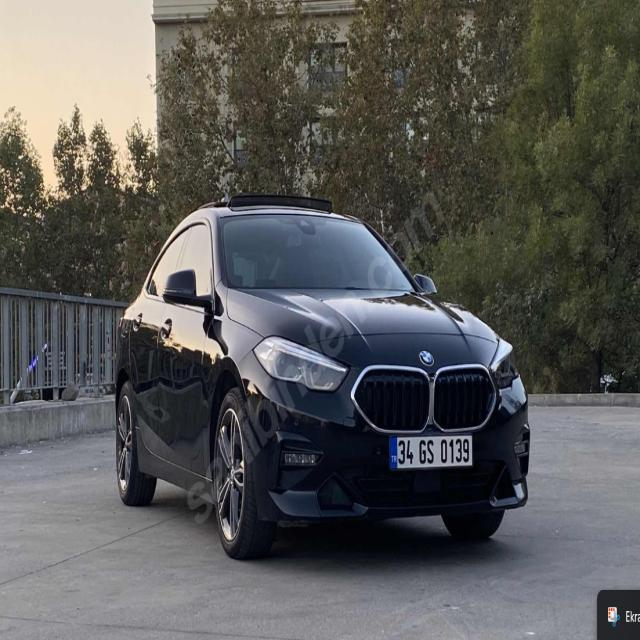bmw: (418, 344, 436, 371)
